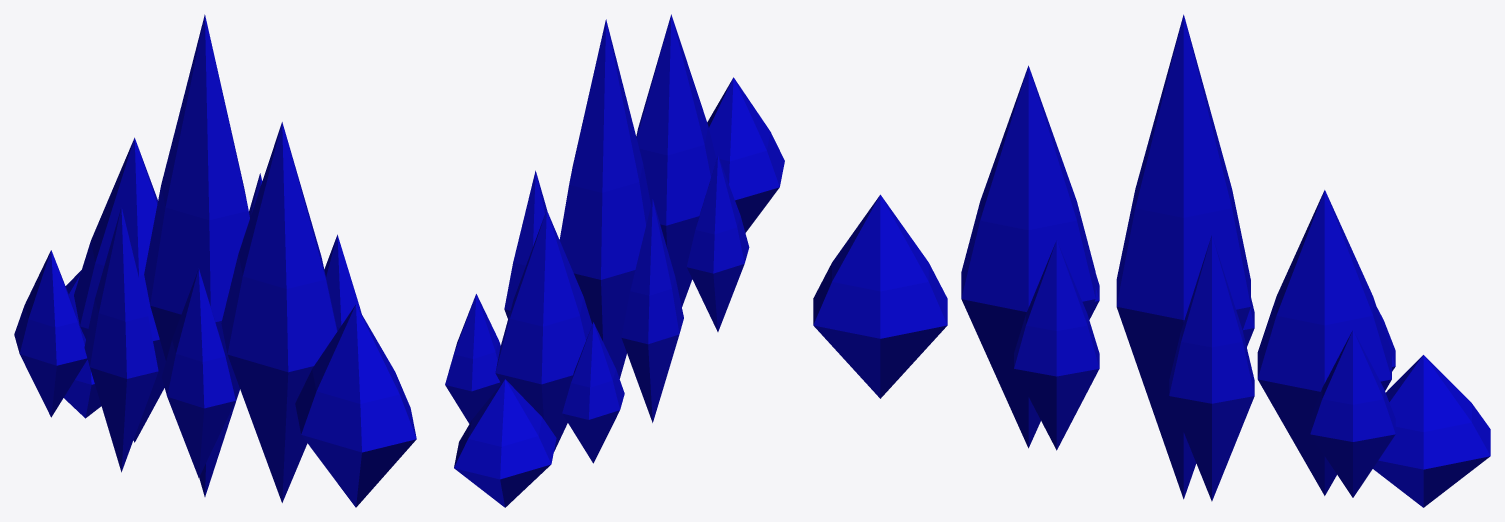
The model's file is GXR_BACK_05_CRYSTAL.glb.
3 renders of one model, left to right at view 1: azimuth 30°, elevation 25°; view 2: azimuth 150°, elevation 25°; view 3: azimuth 270°, elevation 25°, orthographic. The views are drawn at different scales.
Visible parts, largest first — view 1: Mesh_Spinal_crystal.001, Mesh_Spinal_crystal.002, Mesh_Spinal_crystal, Mesh_Crystal_shard.002, Mesh_Crystal_shard, Mesh_Spinal_crystal.003, Mesh_Crystal_shard.004, Mesh_Crystal_shard.001, Mesh_Spinal_crystal.004; view 2: Mesh_Spinal_crystal.002, Mesh_Spinal_crystal.003, Mesh_Spinal_crystal.001, Mesh_Spinal_crystal.004, Mesh_Crystal_shard.002, Mesh_Spinal_crystal, Mesh_Crystal_shard, Mesh_Crystal_shard.004, Mesh_Crystal_shard.005, Mesh_Crystal_shard.003; view 3: Mesh_Spinal_crystal.002, Mesh_Spinal_crystal.001, Mesh_Spinal_crystal.003, Mesh_Spinal_crystal, Mesh_Crystal_shard.003, Mesh_Spinal_crystal.004, Mesh_Crystal_shard.001, Mesh_Crystal_shard.005.
Part boxes in pixels (x1,y1,x2,y2): Mesh_Spinal_crystal.001: (221, 122, 337, 502); Mesh_Spinal_crystal.002: (144, 14, 249, 496); Mesh_Spinal_crystal: (295, 304, 416, 507); Mesh_Crystal_shard.002: (84, 207, 158, 472); Mesh_Crystal_shard: (161, 268, 235, 477); Mesh_Spinal_crystal.003: (74, 137, 165, 442); Mesh_Crystal_shard.004: (14, 250, 87, 417); Mesh_Crystal_shard.001: (324, 234, 361, 330); Mesh_Spinal_crystal.004: (64, 270, 101, 418); Mesh_Spinal_crystal.002: (559, 19, 650, 378); Mesh_Spinal_crystal.003: (495, 210, 592, 451); Mesh_Spinal_crystal.001: (636, 14, 716, 306); Mesh_Spinal_crystal.004: (454, 379, 556, 507); Mesh_Crystal_shard.002: (621, 199, 683, 422); Mesh_Spinal_crystal: (707, 77, 784, 232); Mesh_Crystal_shard: (687, 156, 749, 331); Mesh_Crystal_shard.004: (562, 322, 624, 463); Mesh_Crystal_shard.005: (445, 294, 500, 423); Mesh_Crystal_shard.003: (504, 170, 547, 318); Mesh_Spinal_crystal.002: (1116, 14, 1250, 499); Mesh_Spinal_crystal.001: (961, 65, 1095, 448); Mesh_Spinal_crystal.003: (1257, 190, 1391, 495); Mesh_Spinal_crystal: (813, 194, 947, 398); Mesh_Crystal_shard.003: (1169, 235, 1254, 501); Mesh_Spinal_crystal.004: (1373, 355, 1490, 507); Mesh_Crystal_shard.001: (1014, 240, 1099, 450); Mesh_Crystal_shard.005: (1310, 330, 1395, 497).
Bounding box in the file's own units: 0.166 × 0.3864 × 0.4803.
